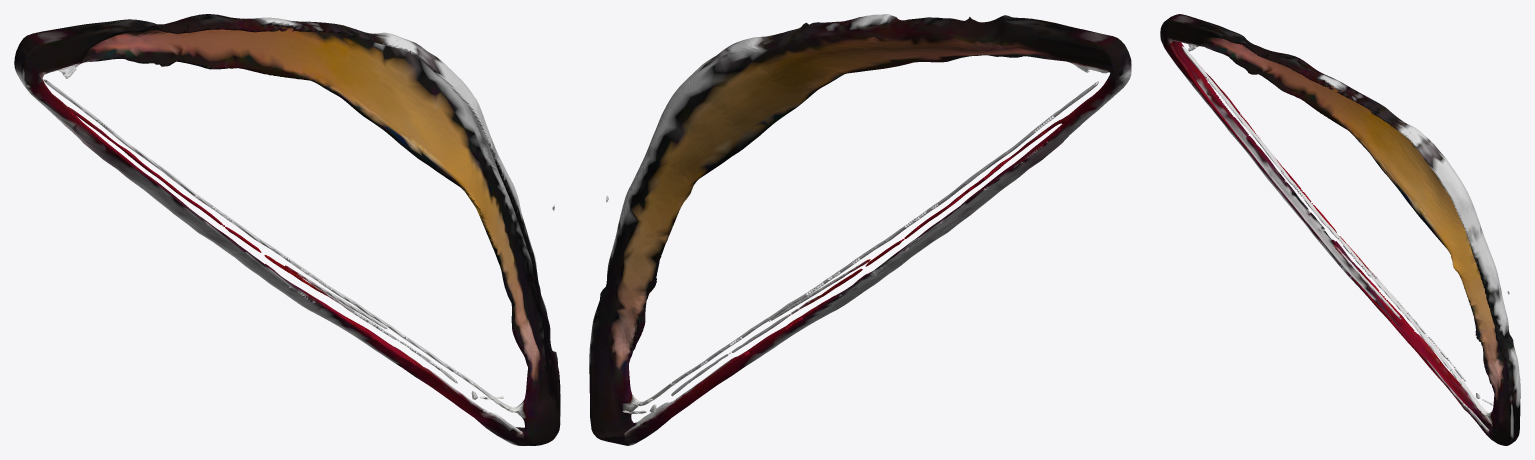
The model's file is longbow.glb.
3 renders of one model, left to right at view 1: azimuth 30°, elevation 25°; view 2: azimuth 150°, elevation 25°; view 3: azimuth 330°, elevation 25°, orthographic. The views are drawn at different scales.
Parts seen in each view (by area): view 1: geometry_0; view 2: geometry_0; view 3: geometry_0.
Part boxes in pixels (bbox=[...]): geometry_0: bbox=[14, 14, 560, 445]; geometry_0: bbox=[589, 14, 1131, 445]; geometry_0: bbox=[1160, 14, 1520, 445].
Bounding box in the file's own units: 0.9375 × 0.8794 × 0.0672.
